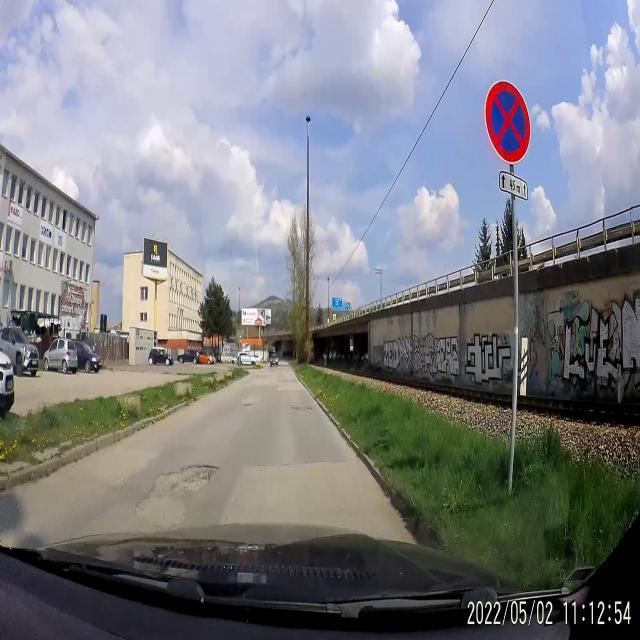Pothole: (126, 456, 224, 532), (286, 404, 318, 424), (240, 396, 256, 416)
